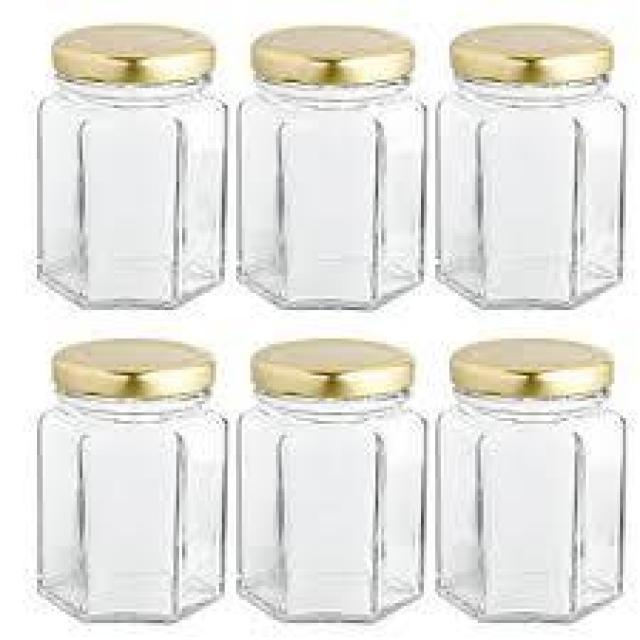Glass: (232, 336, 431, 632), (432, 23, 630, 311), (34, 335, 230, 625), (234, 23, 430, 313), (34, 19, 228, 311), (434, 337, 628, 625)
